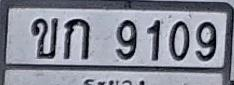0: (169, 20, 189, 60)
1: (148, 20, 160, 60)
9: (116, 19, 137, 59), (196, 21, 216, 60)
A01: (64, 18, 90, 59)
A02: (31, 17, 58, 58)
